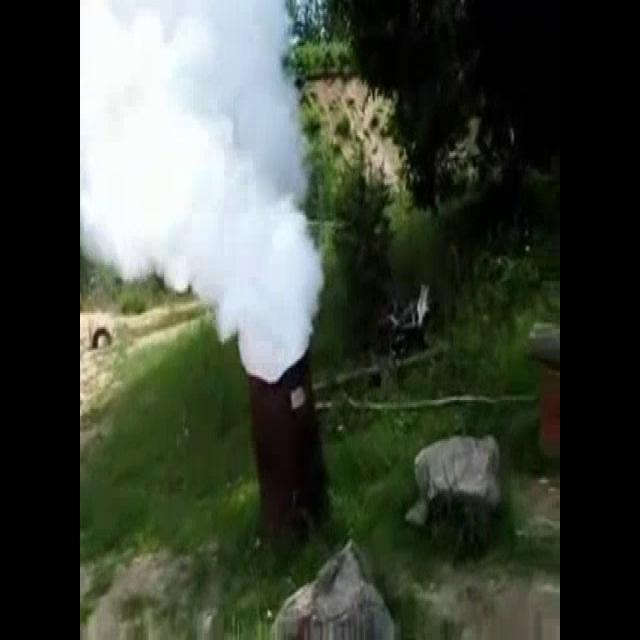Smoke: (78, 0, 326, 385)
